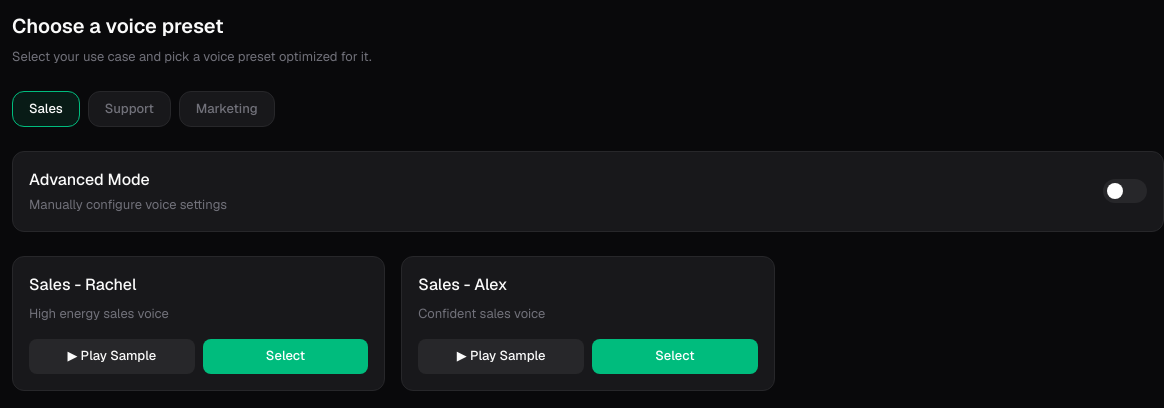
Test case: VoicePresetSelector Audio Player (AC2 - Audio Sample Playback) › [2.6-FRONTEND-AC2-004][P2] Audio State Management › should track currently playing preset
Expected: the heading "Sales - Rachel" is shown, [29,274,136,295]
# Play first preset
Click the button labelled "▶ Play Sample" below "High energy sales voice".
click(112, 357)  # box [29,339,195,374]
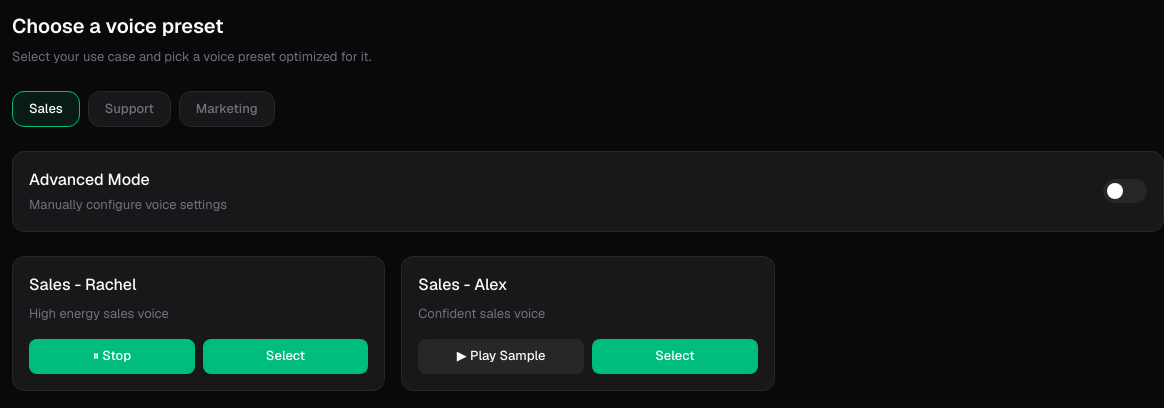
Expected: the button with aria-label "stop sample" is shown, [29,339,195,374]
